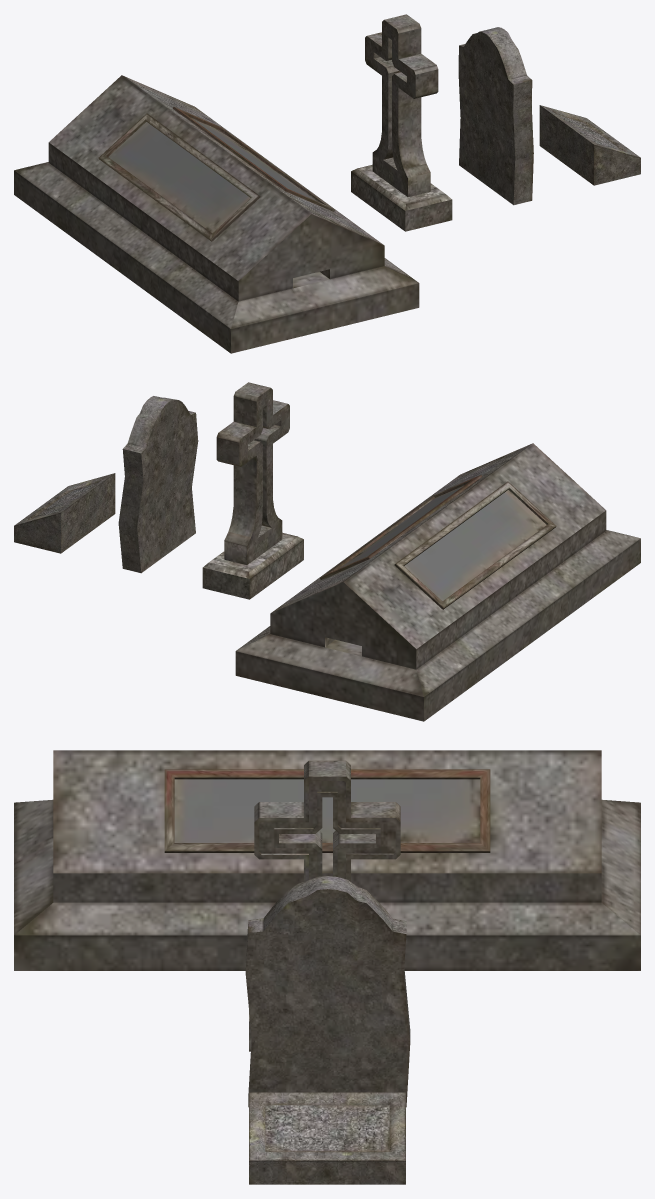
The model's file is t_lap_coleccion.glb.
3 renders of one model, top to bottom at view 1: azimuth 30°, elevation 25°; view 2: azimuth 150°, elevation 25°; view 3: azimuth 270°, elevation 25°, orthographic. The views are drawn at different scales.
Parts seen in each view (by area): view 1: Grave1_Graves_0; view 2: Grave1_Graves_0; view 3: Grave1_Graves_0.
Part boxes in pixels (x1,y1,x2,y2): Grave1_Graves_0: [14, 14, 640, 353]; Grave1_Graves_0: [14, 382, 640, 721]; Grave1_Graves_0: [14, 750, 640, 1184].
Size of the model in its own units: 2.79 by 1 by 2.13.
Materials: 1 (1 with a texture image).
